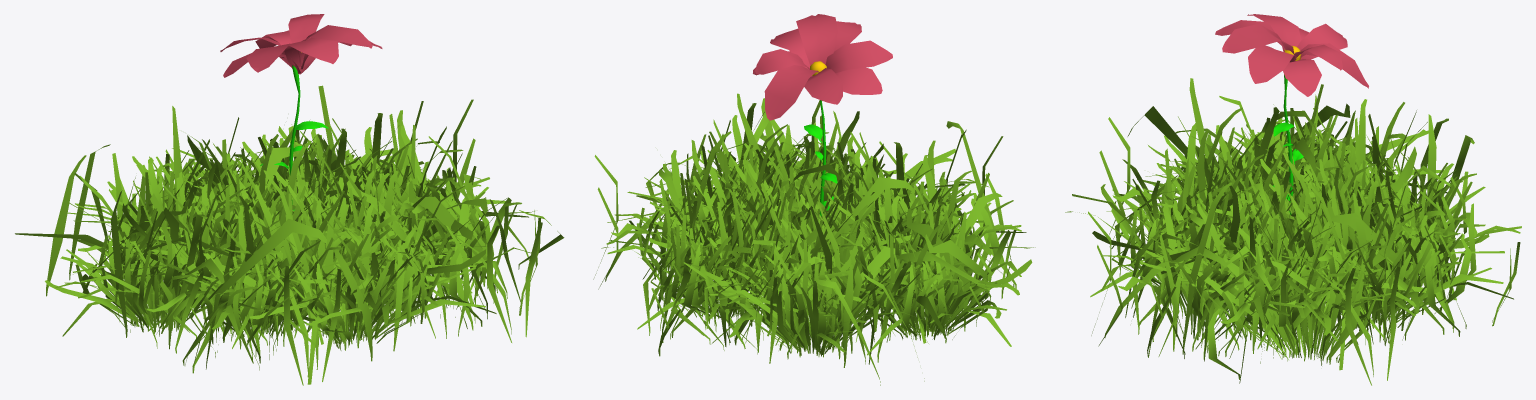
File: Player3.fbx
3 renders of one model, left to right at view 1: azimuth 30°, elevation 25°; view 2: azimuth 150°, elevation 25°; view 3: azimuth 270°, elevation 25°, orthographic. The views are drawn at different scales.
Visible parts, largest first — view 1: Player; view 2: Player; view 3: Player.
Boxes of the visible parts, <box> form: Player: <box>15,14,564,385</box>; Player: <box>593,14,1035,385</box>; Player: <box>1065,14,1521,385</box>.
Size of the model in its own units: 171 by 103 by 157.
